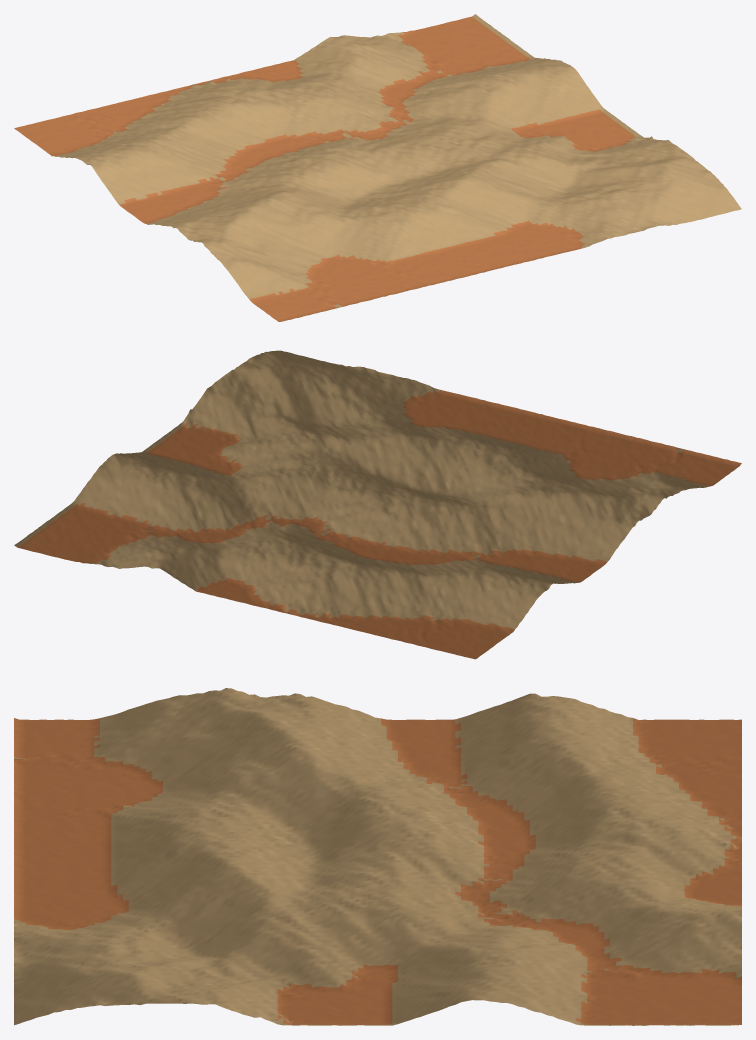
The model's file is transverse_basic.obj.
The picture shows the model from 3 angles, top to bottom: view 1: azimuth 30°, elevation 25°; view 2: azimuth 150°, elevation 25°; view 3: azimuth 270°, elevation 25°; orthographic projection. The views are drawn at different scales.
Parts seen in each view (by area): view 1: Obj; view 2: Obj; view 3: Obj.
Boxes of the visible parts, x1,y1,x2,y2 form: Obj: (14, 14, 741, 321); Obj: (14, 350, 741, 659); Obj: (14, 688, 741, 1025).
Bounding box in the file's own units: 128 × 7.08 × 128.
